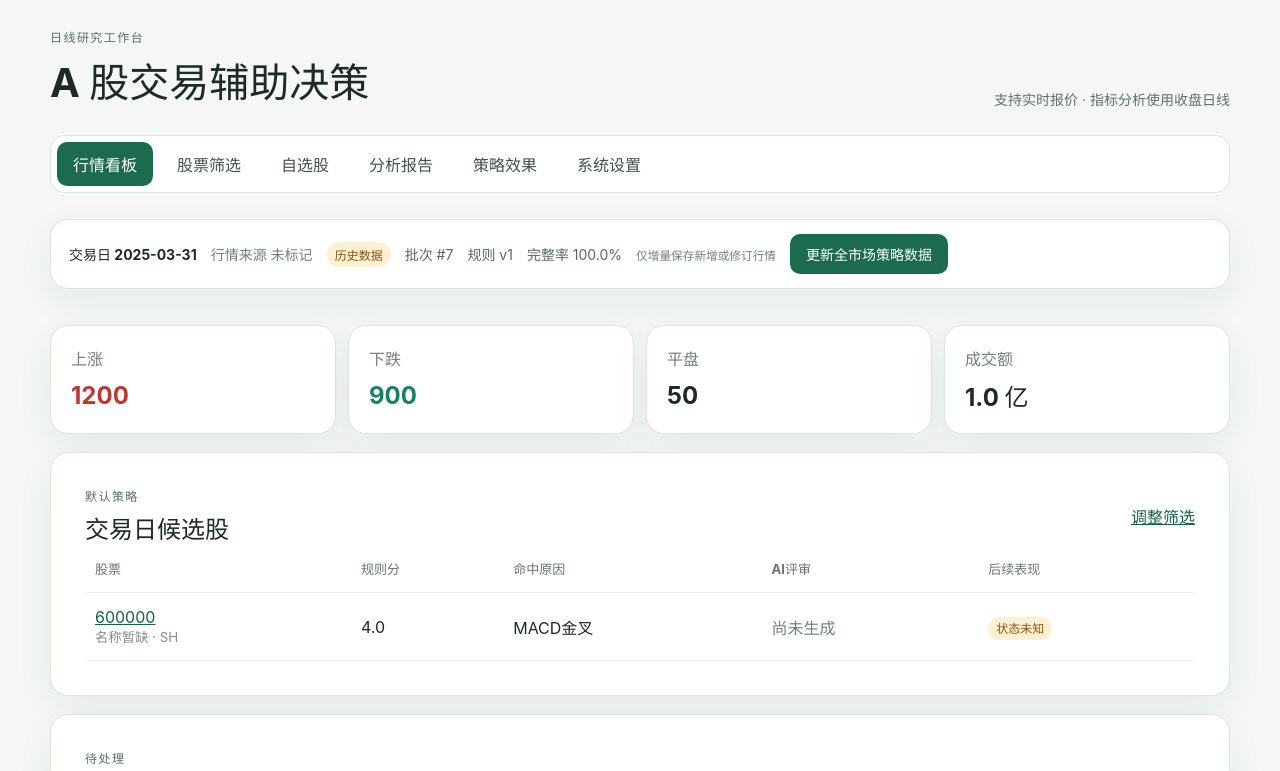
App › shows sync failure details and enables retry without hiding the old batch
This screenshot has width=1280, height=771.
What coordinates should you click on to do the following:
click the button "更新全市场策略数据"
I would click on:
 (869, 254)
Its box is [790,234,948,274].
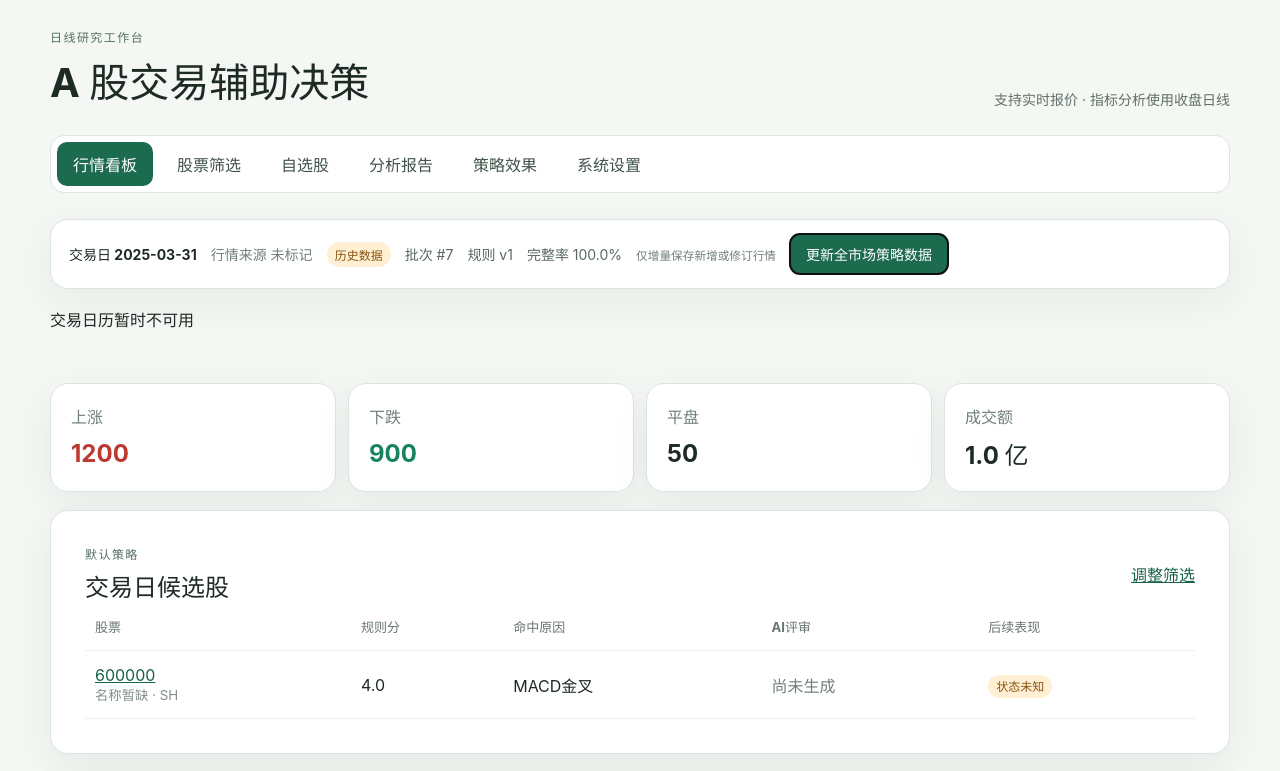
Check: the text "交易日 2025-03-31" is shown, box [69,244,197,264]
Check: the message reads "交易日历暂时不可用", box [50,310,194,330]
